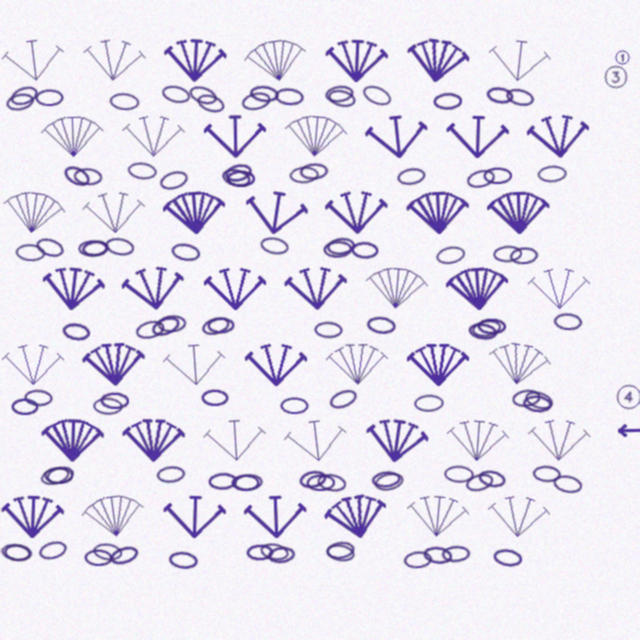chain: (360, 82, 394, 109), (61, 162, 93, 190), (149, 313, 182, 339), (327, 386, 360, 412), (8, 83, 40, 108), (187, 83, 219, 108), (34, 235, 66, 260), (523, 388, 555, 413), (108, 543, 140, 568), (195, 91, 226, 116), (158, 168, 190, 192), (200, 314, 232, 338), (39, 464, 71, 488), (37, 538, 69, 562), (160, 83, 192, 106), (504, 86, 536, 109), (220, 166, 252, 189), (465, 167, 497, 190), (134, 318, 166, 341), (373, 470, 405, 493), (326, 87, 357, 110), (223, 161, 254, 184), (464, 471, 495, 494), (240, 90, 272, 112), (170, 241, 201, 263), (259, 235, 290, 257), (435, 244, 466, 266), (552, 473, 583, 495), (259, 541, 290, 563), (325, 542, 356, 564), (5, 91, 35, 113), (45, 464, 75, 486), (298, 468, 328, 490), (477, 468, 507, 490), (396, 166, 427, 187), (104, 236, 135, 257), (467, 321, 498, 342), (471, 318, 502, 339), (316, 472, 347, 493), (0, 542, 31, 563), (492, 547, 523, 568), (485, 85, 515, 106), (61, 321, 91, 342), (324, 84, 355, 104), (511, 388, 542, 408), (92, 542, 123, 562), (325, 540, 356, 560), (422, 545, 453, 565), (249, 84, 279, 104), (127, 161, 157, 181), (326, 236, 356, 256), (366, 315, 396, 335), (168, 550, 198, 570), (109, 92, 140, 111), (15, 243, 46, 262), (267, 545, 296, 565), (274, 87, 304, 106), (73, 167, 103, 186), (299, 162, 329, 181), (509, 246, 539, 265), (157, 314, 187, 333), (553, 312, 583, 331), (522, 394, 552, 413), (156, 465, 186, 484), (233, 473, 263, 492), (371, 470, 401, 489), (3, 543, 33, 562), (403, 550, 433, 569), (81, 239, 110, 258), (289, 166, 319, 184), (537, 165, 567, 183), (93, 397, 123, 415), (414, 394, 444, 412), (444, 465, 474, 483), (441, 545, 471, 563), (433, 92, 462, 110), (323, 240, 352, 258), (493, 245, 522, 263), (314, 321, 343, 339), (24, 389, 53, 407), (208, 472, 237, 490), (532, 465, 561, 483), (351, 241, 379, 259), (35, 89, 64, 106), (226, 170, 255, 187), (483, 167, 512, 184), (78, 240, 107, 257), (477, 318, 506, 335), (100, 392, 129, 409), (280, 397, 309, 414), (44, 467, 73, 484), (231, 474, 260, 491), (306, 474, 335, 491), (84, 549, 113, 566), (207, 317, 235, 334), (11, 398, 39, 415), (201, 389, 229, 406), (246, 544, 274, 561)
fan: (322, 489, 391, 545), (485, 337, 553, 392), (242, 34, 310, 88), (242, 186, 310, 240), (404, 34, 471, 88), (0, 186, 67, 240), (363, 414, 430, 468), (0, 34, 67, 87), (120, 262, 187, 315), (80, 490, 147, 543), (486, 35, 552, 87), (364, 111, 430, 163), (40, 263, 106, 315), (283, 415, 349, 467), (81, 35, 147, 86), (283, 111, 348, 162), (526, 111, 591, 162), (364, 263, 429, 314), (405, 491, 470, 542), (162, 188, 227, 238), (445, 264, 510, 314), (162, 340, 227, 390), (445, 416, 510, 466), (486, 492, 551, 542), (163, 36, 227, 85), (284, 264, 348, 313), (82, 340, 146, 389), (203, 416, 267, 465), (527, 416, 591, 465), (82, 189, 146, 237), (406, 189, 470, 237), (325, 37, 388, 85), (41, 113, 104, 161), (446, 113, 509, 161), (487, 189, 550, 237), (1, 493, 64, 541), (163, 493, 226, 541), (244, 493, 307, 541), (122, 113, 185, 160), (325, 189, 388, 236), (41, 417, 104, 464), (122, 417, 185, 464), (204, 113, 266, 160), (326, 341, 388, 388), (204, 266, 266, 312), (528, 266, 590, 312), (2, 342, 64, 388), (245, 342, 307, 388), (407, 342, 469, 388)
noise: (602, 63, 630, 91), (614, 382, 640, 411), (613, 48, 632, 67), (615, 423, 640, 437)
